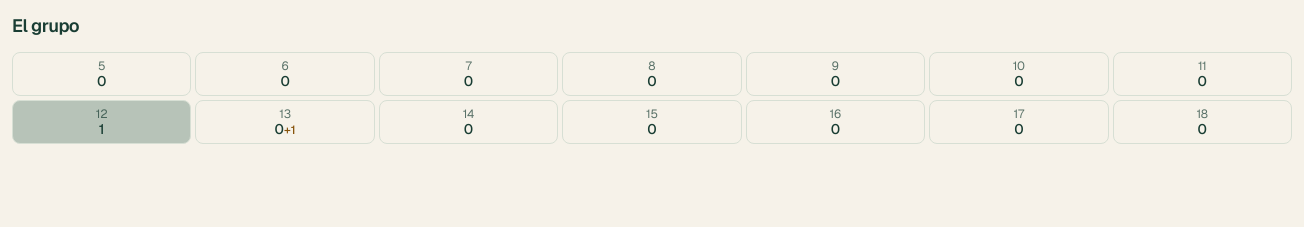
Test case: CrewHeatmap › shows who answered what for the tapped day
Step 1. Click the button named "lun, 12 de julio" → (102, 122), box [12,100,191,144]
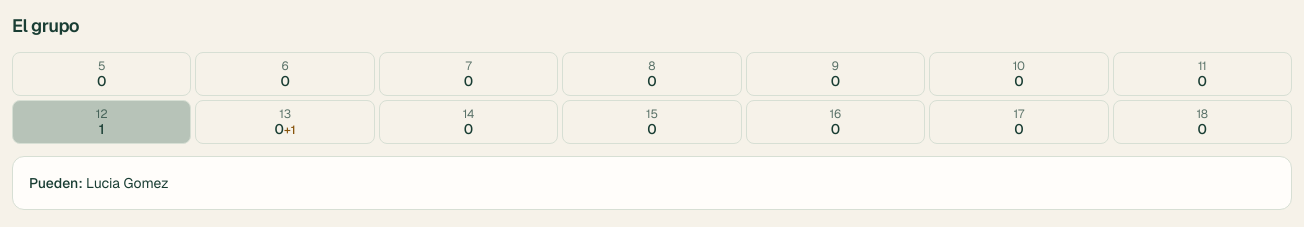
Now the element named "lun, 12 de julio" shows "Pueden", box [29,174,78,192]
Now the element named "lun, 12 de julio" shows "Lucia Gomez", box [86,174,168,192]
